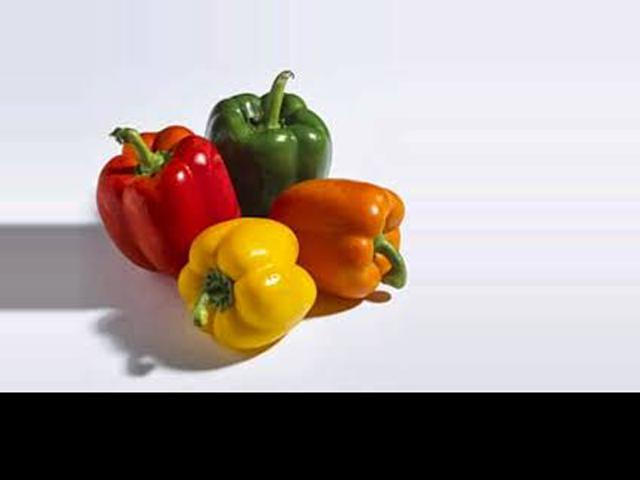bell_pepper: (90, 110, 236, 275)
